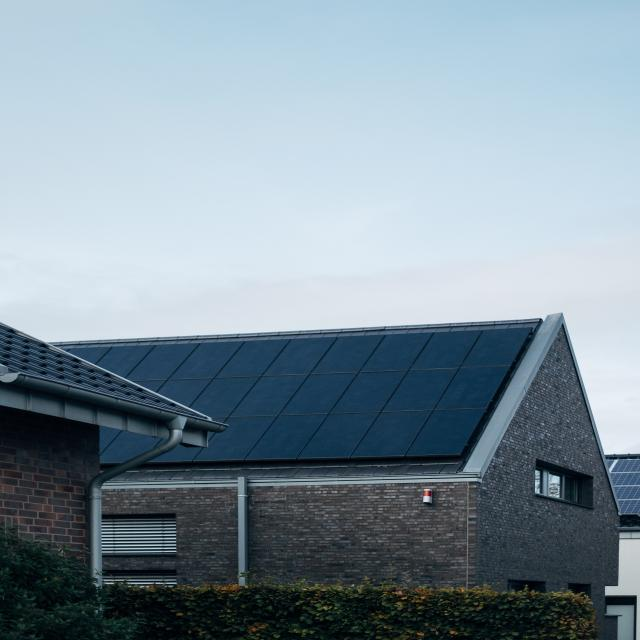clean-solar-panel: (62, 320, 540, 464)
